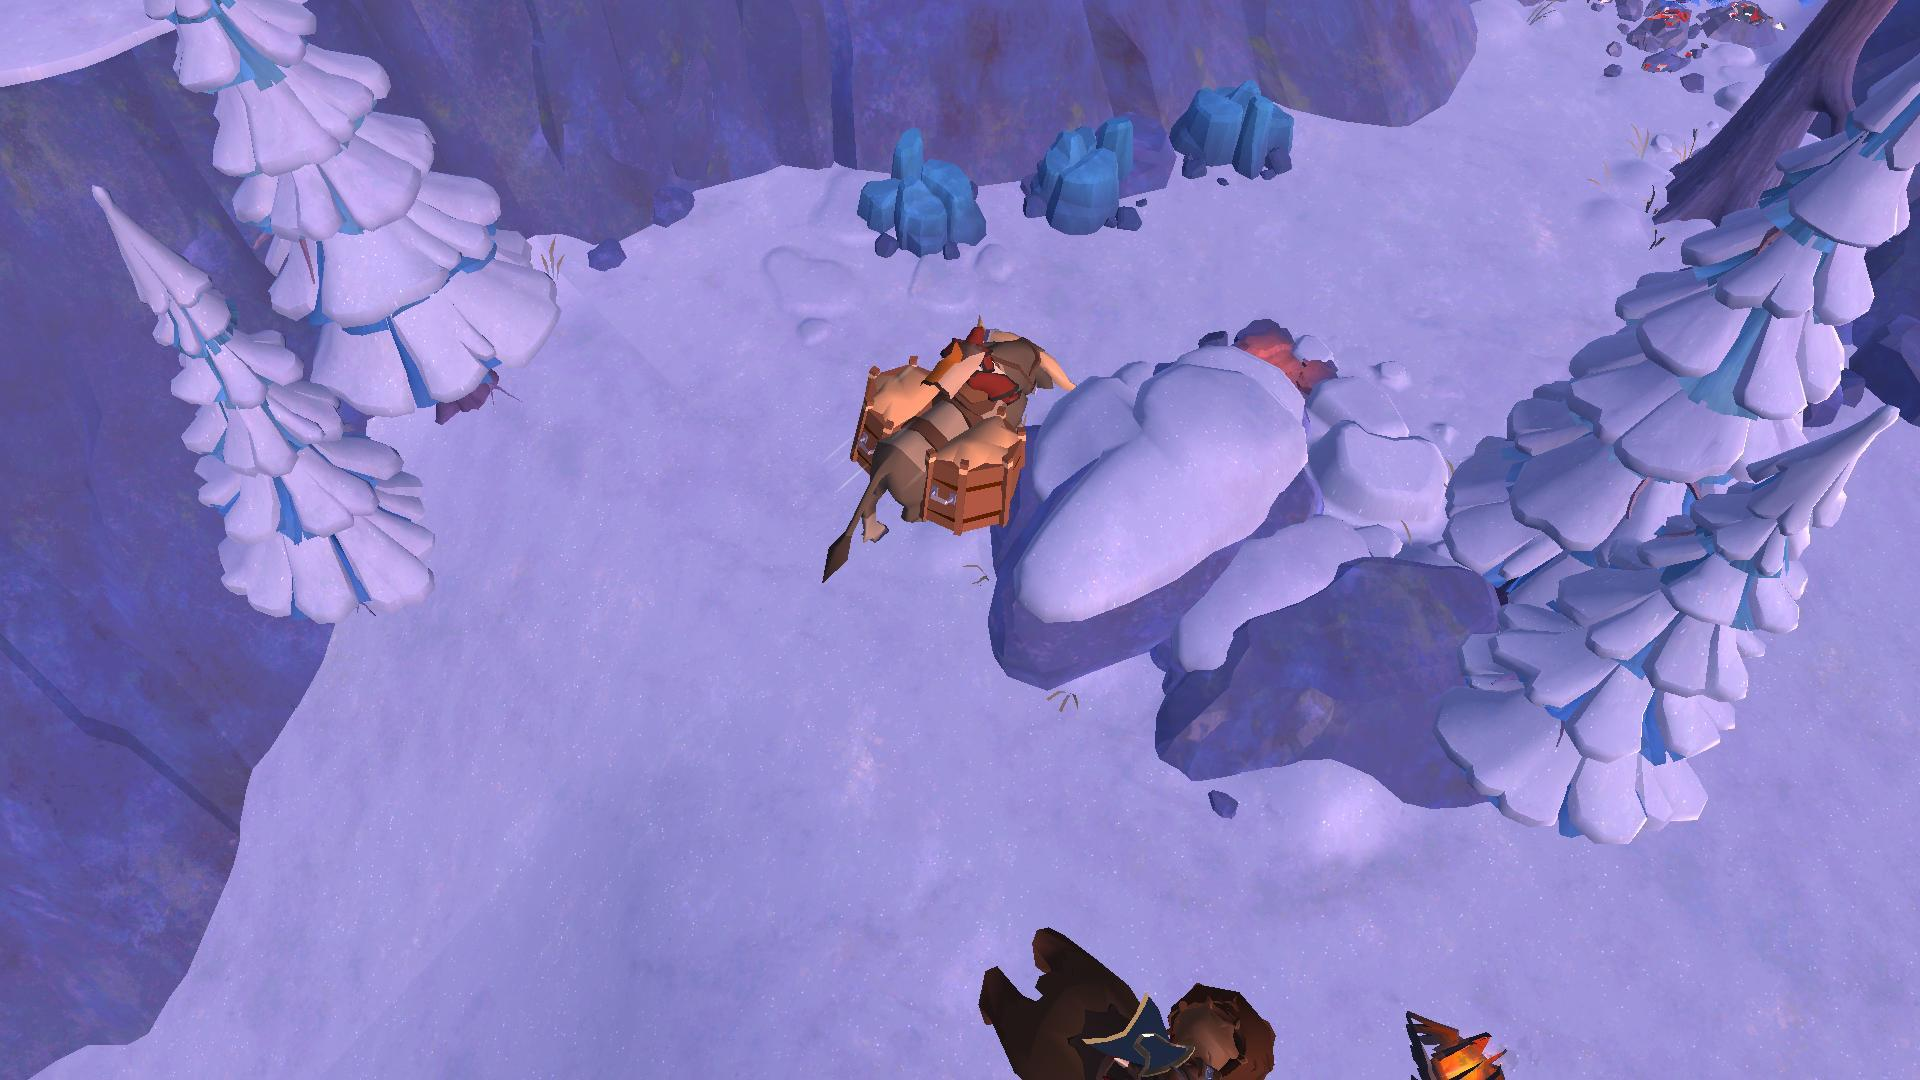rock_t4: (856, 123, 988, 265), (1017, 111, 1145, 240), (1162, 79, 1305, 181)
